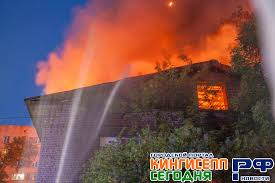fire: (39, 33, 257, 116)
